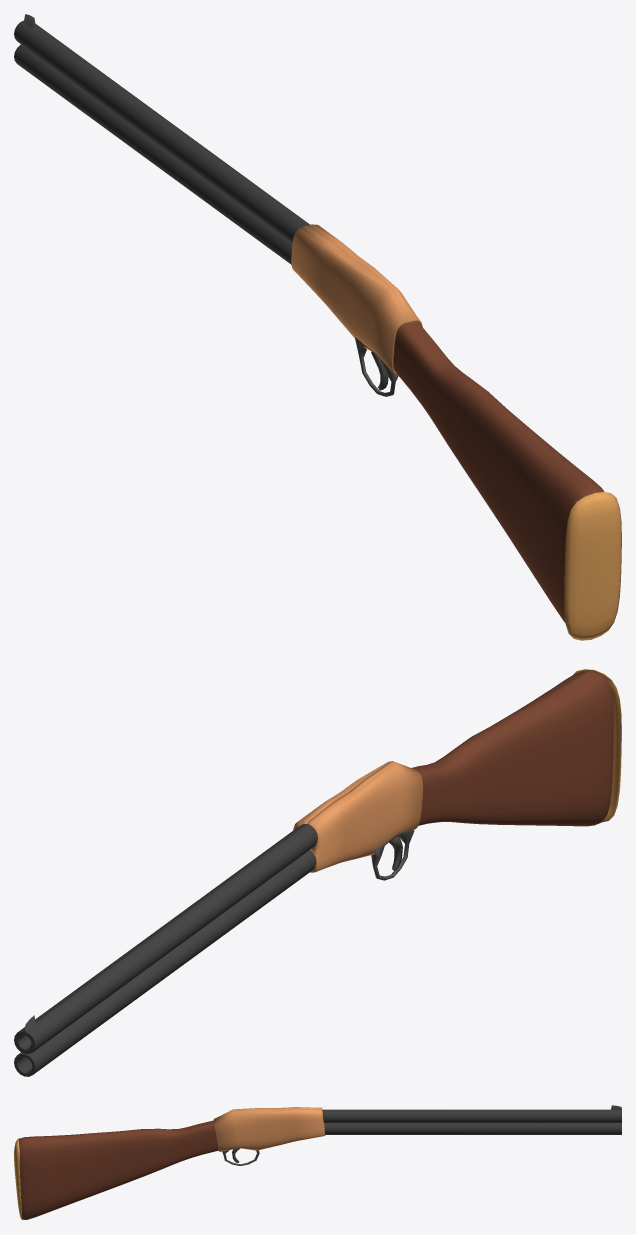
Rendered from Henry.fbx.
The picture shows the model from 3 angles, top to bottom: view 1: azimuth 30°, elevation 25°; view 2: azimuth 150°, elevation 25°; view 3: azimuth 270°, elevation 25°; orthographic projection. The views are drawn at different scales.
Visible parts, largest first — view 1: Cube, Cylinder, Cube.001, Cube.003; view 2: Cube, Cylinder, Cube.001, Cube.003, Torus; view 3: Cube, Cylinder, Cube.001, Cube.003.
Part boxes in pixels (x1,y1,x2,y2): Cube: (393, 322, 604, 623); Cylinder: (14, 14, 309, 264); Cube.001: (291, 224, 422, 375); Cube.003: (564, 492, 621, 640); Cube: (411, 670, 613, 826); Cylinder: (14, 824, 317, 1076); Cube.001: (293, 761, 422, 872); Cube.003: (573, 669, 621, 822); Torus: (371, 830, 414, 880); Cube: (18, 1120, 218, 1219); Cylinder: (322, 1105, 621, 1134); Cube.001: (213, 1107, 325, 1151); Cube.003: (14, 1138, 22, 1220).
Size of the model in its own units: 21.3 by 76.7 by 371.
